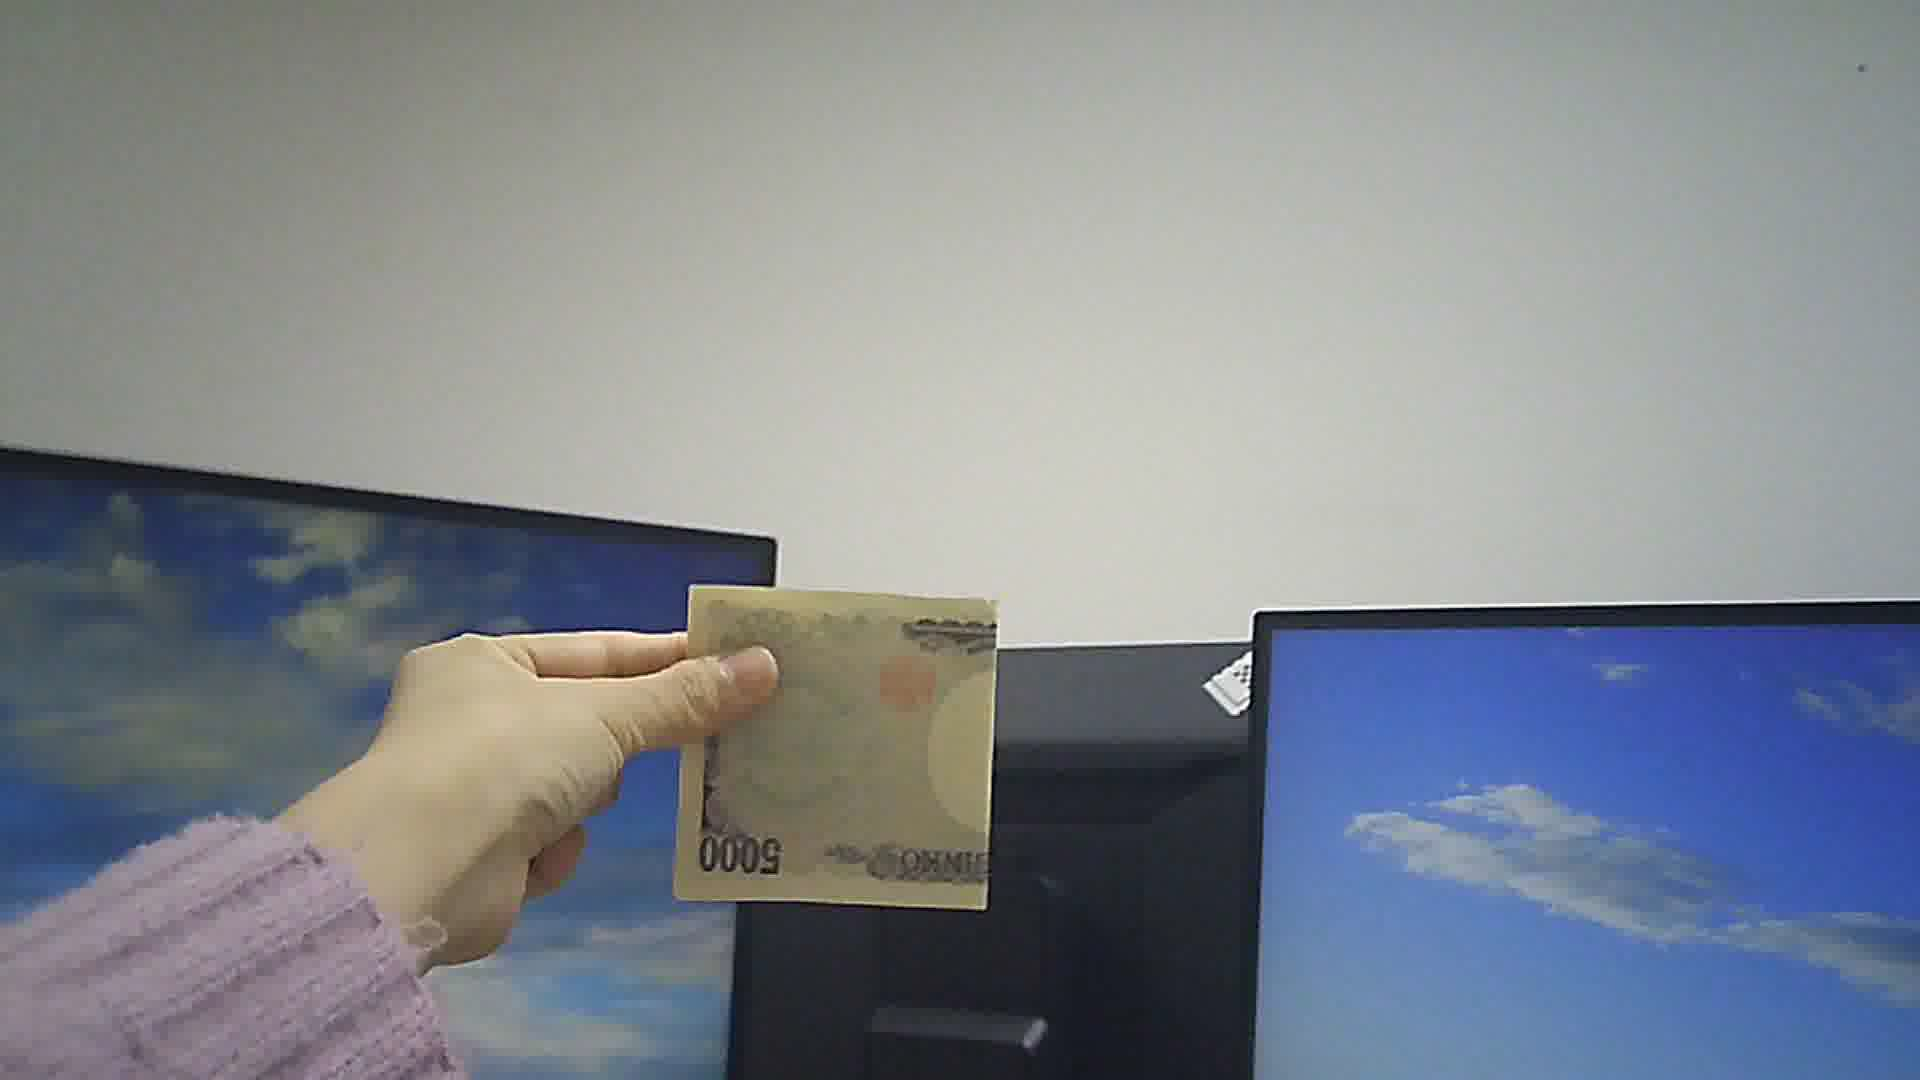5,000 Yen: (666, 571, 1009, 924)
